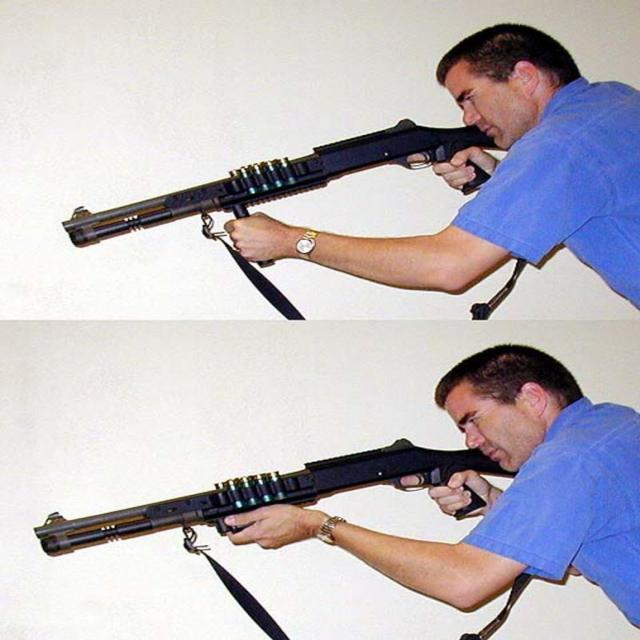weapon: (56, 114, 526, 320), (31, 434, 518, 560)
